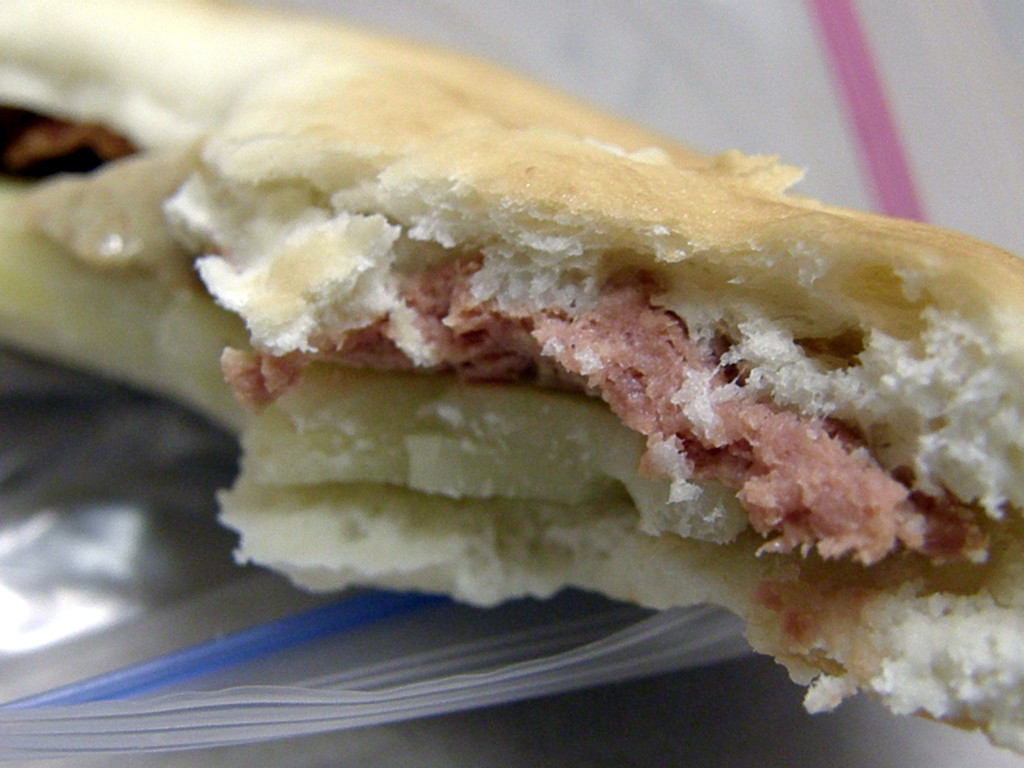sandwich: (0, 0, 1023, 756)
